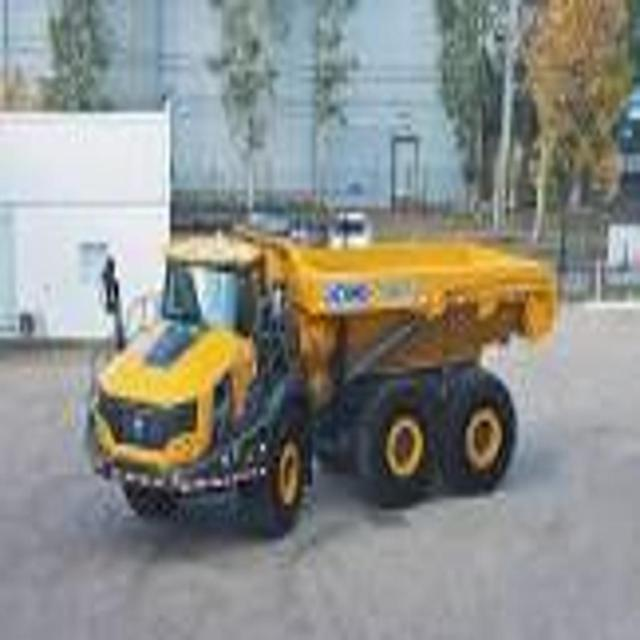dump_truck: (88, 220, 552, 527)
